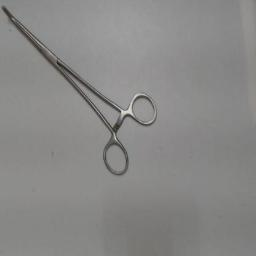Lahey Forceps: (2, 2, 160, 180)
